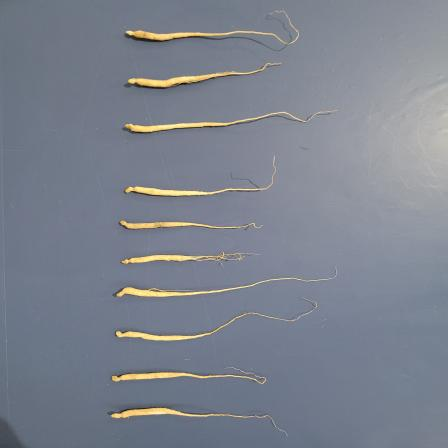Ginseng: (115, 296, 318, 343), (114, 266, 342, 300), (123, 8, 300, 48), (120, 156, 276, 200), (123, 108, 336, 135), (108, 405, 290, 436), (125, 61, 284, 91), (109, 366, 270, 384), (120, 250, 253, 268), (117, 217, 266, 233)
head: (110, 410, 128, 420), (124, 185, 139, 196), (111, 373, 125, 383), (125, 123, 138, 133), (119, 220, 132, 230), (125, 30, 141, 38), (127, 77, 141, 86), (116, 287, 128, 297), (116, 329, 127, 339)
